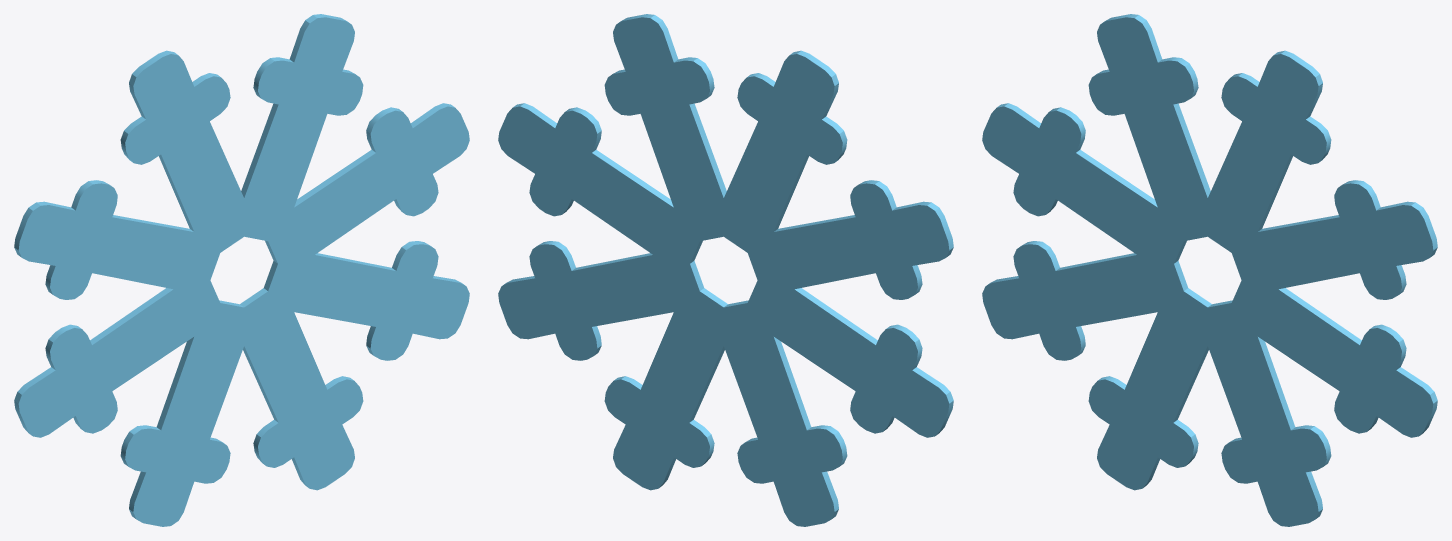
The model's file is snowflake.gltf.
3 renders of one model, left to right at view 1: azimuth 30°, elevation 25°; view 2: azimuth 150°, elevation 25°; view 3: azimuth 330°, elevation 25°, orthographic.
Visible parts, largest first — view 1: Circle.2127; view 2: Circle.2127; view 3: Circle.2127.
Part boxes in pixels (x1=…): Circle.2127: x1=14, y1=14, x2=469, y2=526; Circle.2127: x1=498, y1=14, x2=953, y2=526; Circle.2127: x1=982, y1=14, x2=1437, y2=526.
Bounding box in the file's own units: 2.32 × 2.32 × 0.04.
Materials: 1 (1 with a texture image).
